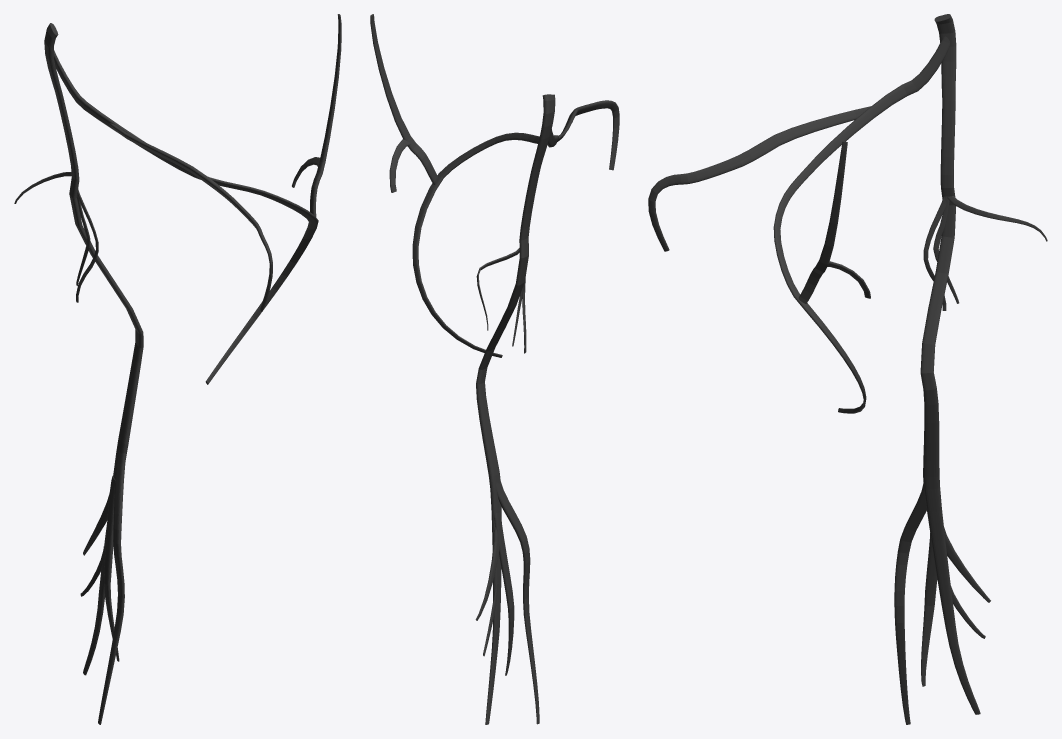
Rendered from L_Trigeminus_Maxillary.glb.
The picture shows the model from 3 angles, left to right: view 1: azimuth 30°, elevation 25°; view 2: azimuth 150°, elevation 25°; view 3: azimuth 270°, elevation 25°; orthographic projection. The views are drawn at different scales.
Parts seen in each view (by area): view 1: L_Trigeminus_Maxillary; view 2: L_Trigeminus_Maxillary; view 3: L_Trigeminus_Maxillary.
Boxes of the visible parts, <box> form: L_Trigeminus_Maxillary: <box>14,14,341,724</box>; L_Trigeminus_Maxillary: <box>370,14,619,724</box>; L_Trigeminus_Maxillary: <box>648,14,1047,724</box>.
Bounding box in the file's own units: 0.4402 × 1.19 × 0.6213.
1 material, 1 textured.
